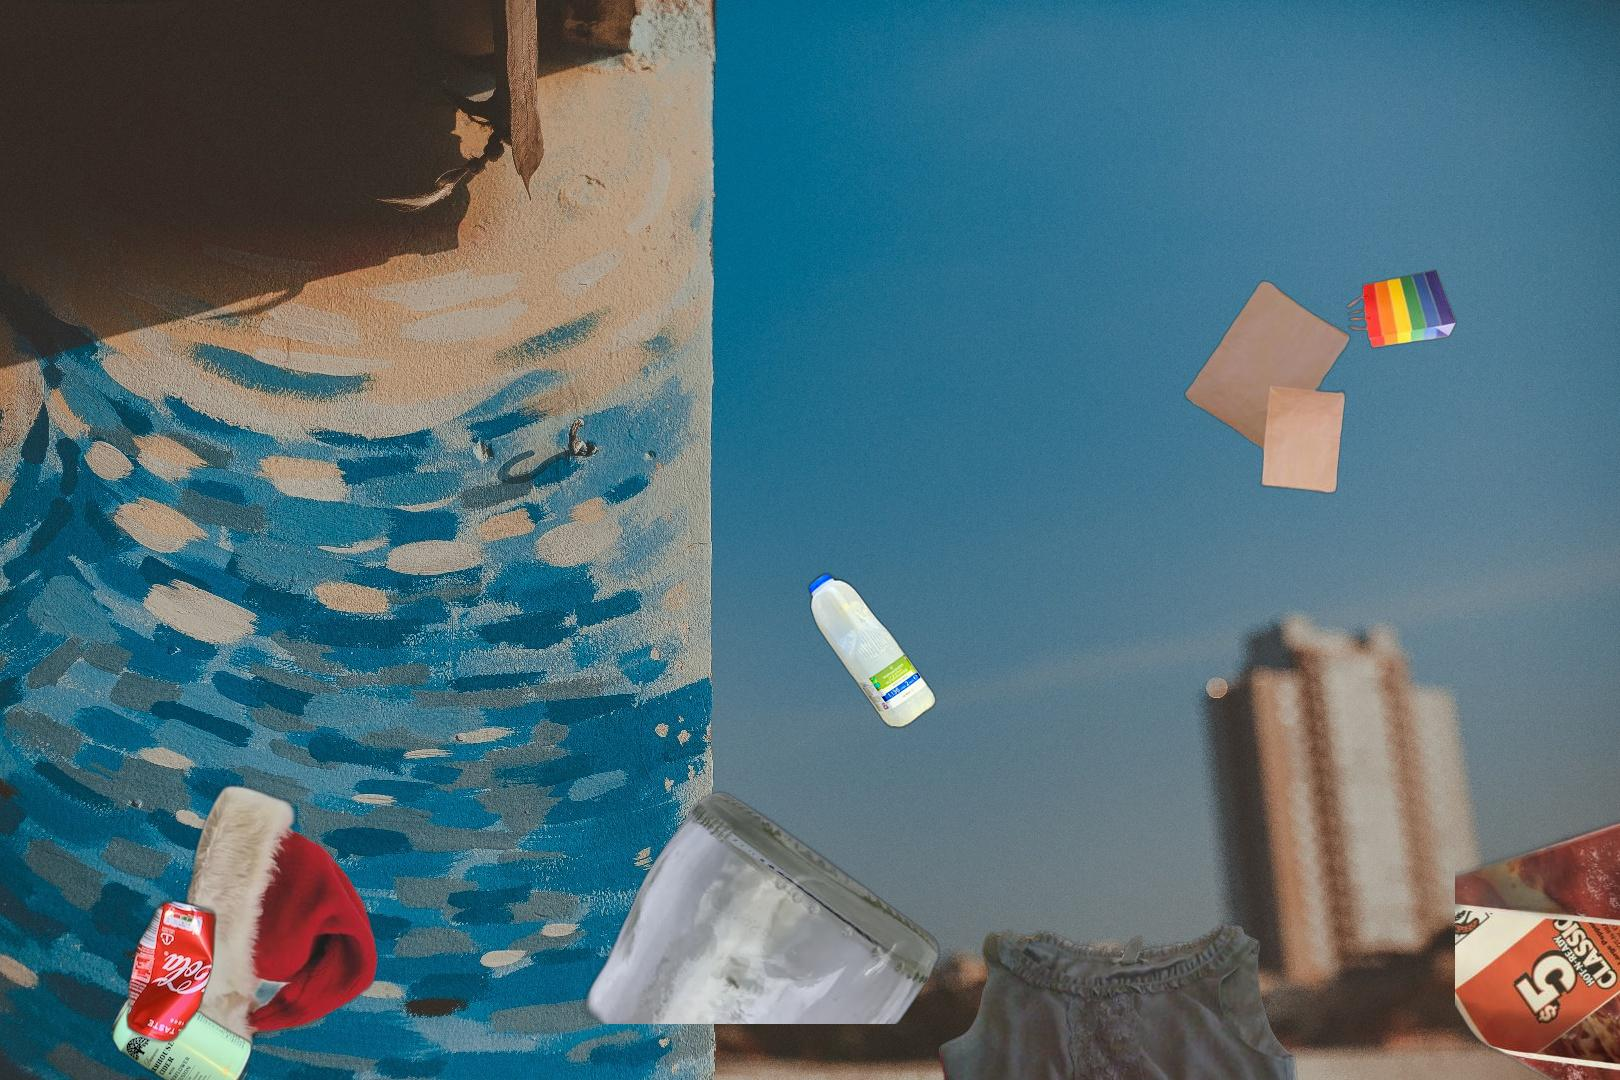clothes: (926, 917, 1321, 1080)
glass: (579, 790, 943, 1025)
metal-cans: (106, 980, 256, 1080), (123, 894, 221, 1047)
paper: (178, 781, 601, 1070), (1455, 749, 1620, 1080)
paper-bag: (1181, 268, 1458, 495)
plastic-bottles: (804, 568, 940, 734)
